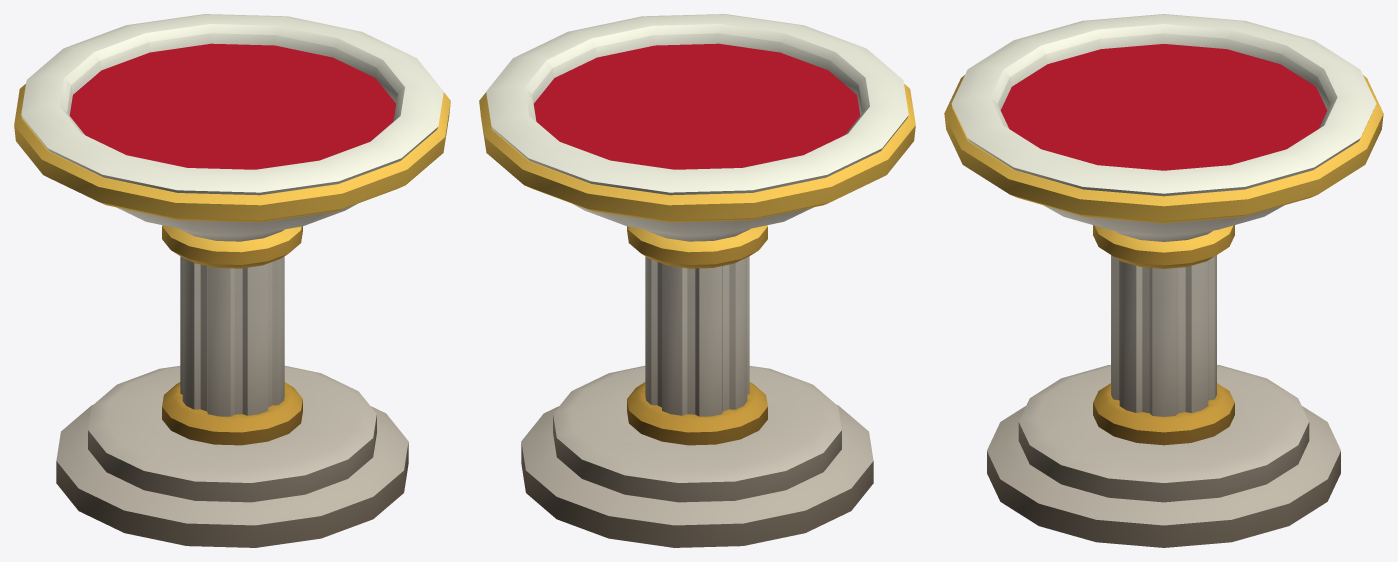
Rendered from fountain_chalice_health.glb.
3 renders of one model, left to right at view 1: azimuth 30°, elevation 25°; view 2: azimuth 150°, elevation 25°; view 3: azimuth 270°, elevation 25°, orthographic.
Visible parts, largest first — view 1: Item; view 2: Item; view 3: Item.
Boxes of the visible parts, <box> form: Item: <box>14,14,450,547</box>; Item: <box>479,14,915,547</box>; Item: <box>944,14,1383,547</box>.
Bounding box in the file's own units: 1.24 × 1.17 × 1.24.
Materials: 3 (3 with a texture image).
